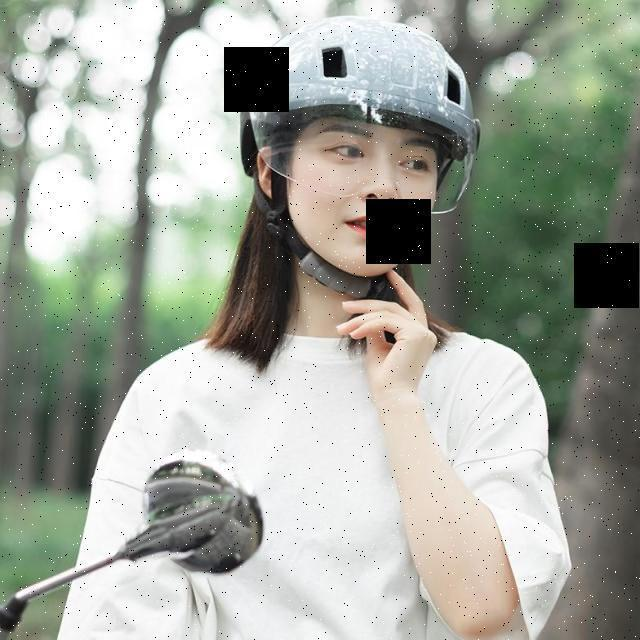helmet: (238, 12, 476, 298)
